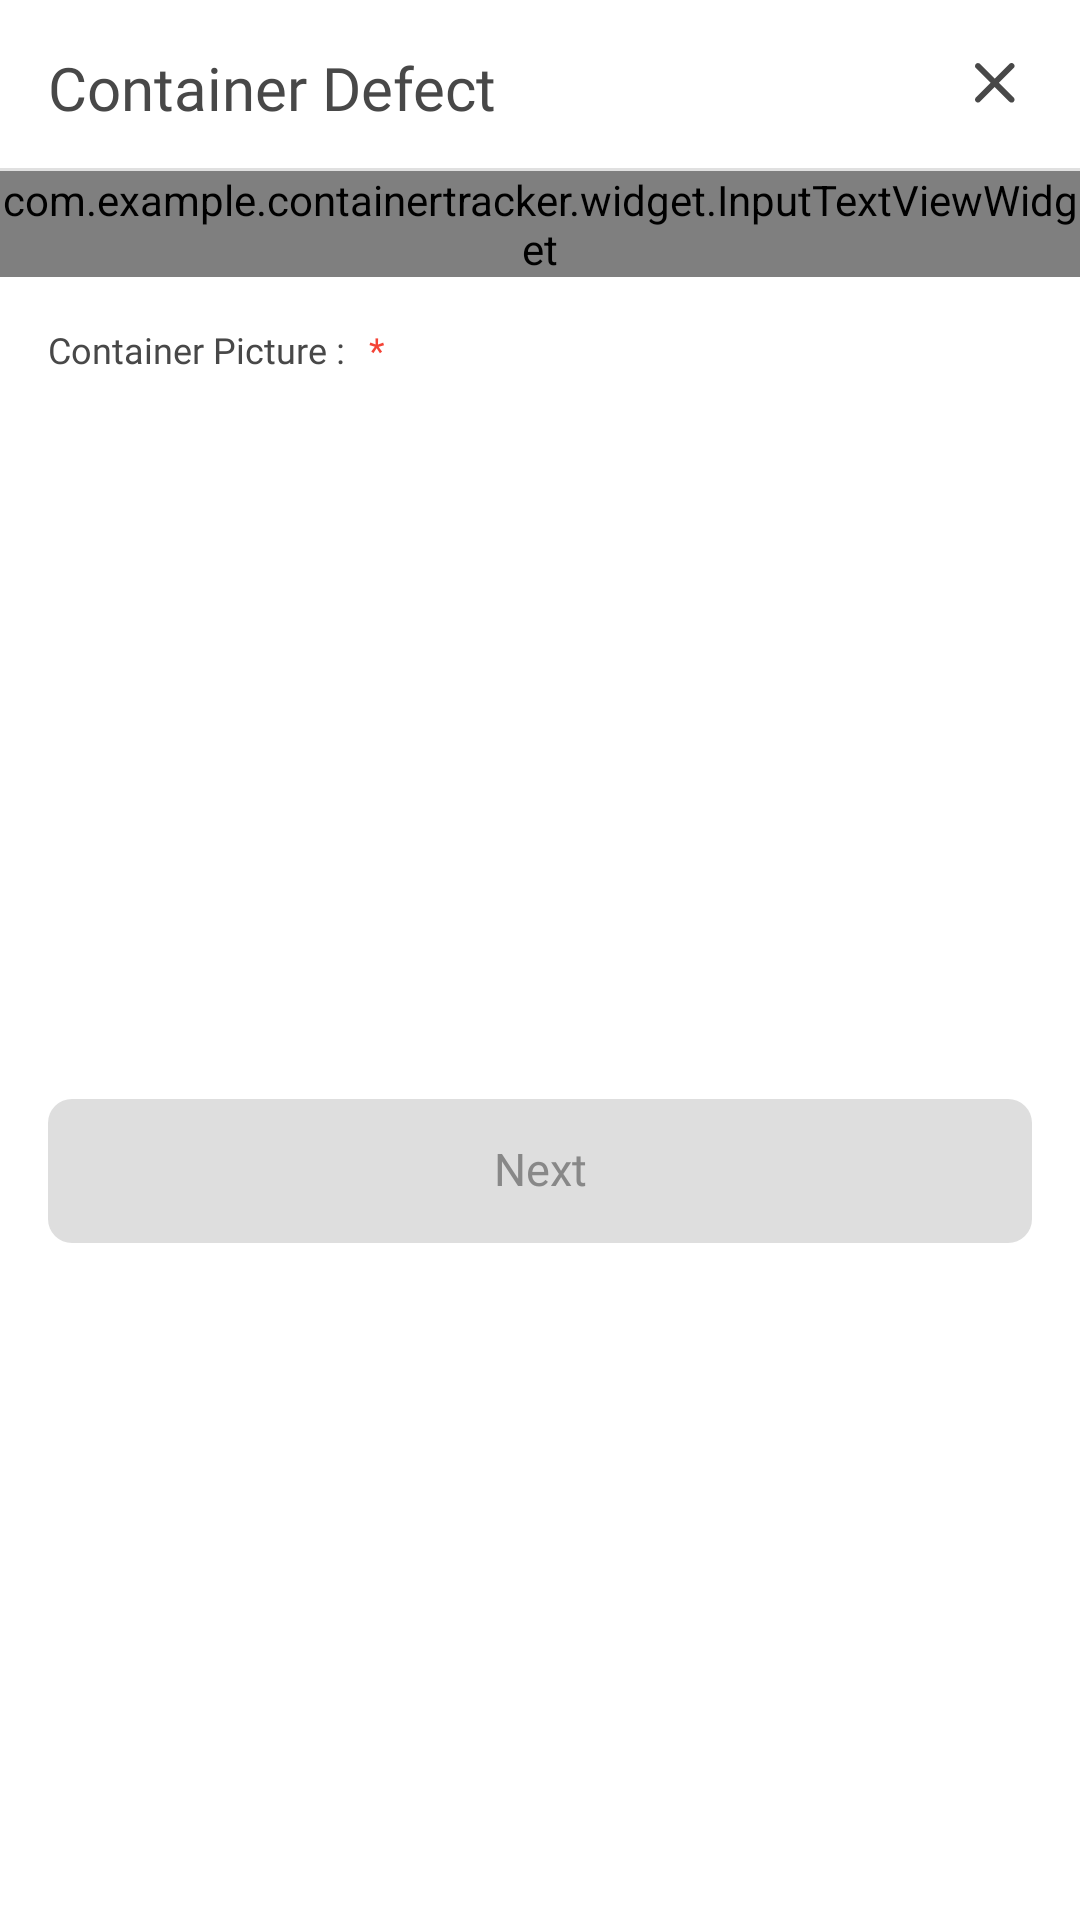

Where icons sit on this 1080w x 1920h app screen, as detection(x1, y1, x2, y2):
close: detection(975, 63, 1015, 103)
